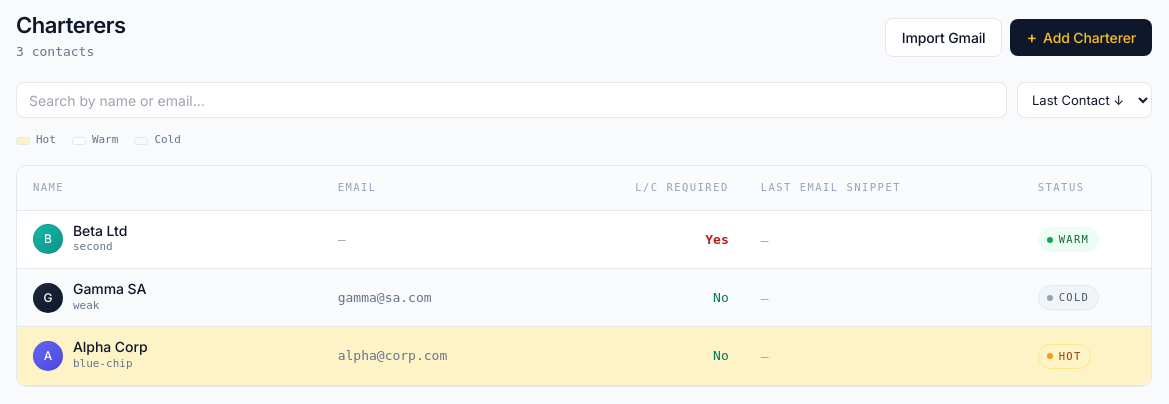
Test case: Charterers FilterBar (#504) › typing email filters rows by email substring
Check: the text "Alpha Corp" is shown, box [73,339,148,356]
Type "gamma@sa" into the search field named "search charterers" at x=512, y=100, box [16,82,1007,118]
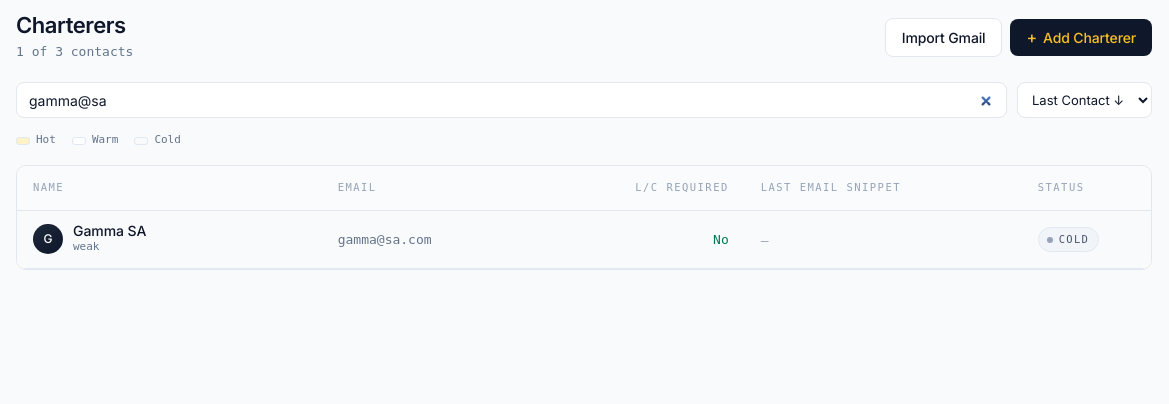
Check: the text "Gamma SA" is shown, box [73,223,146,239]
Check: the link "Alpha Corp" is gone
Check: the link "Beta Ltd" is gone
